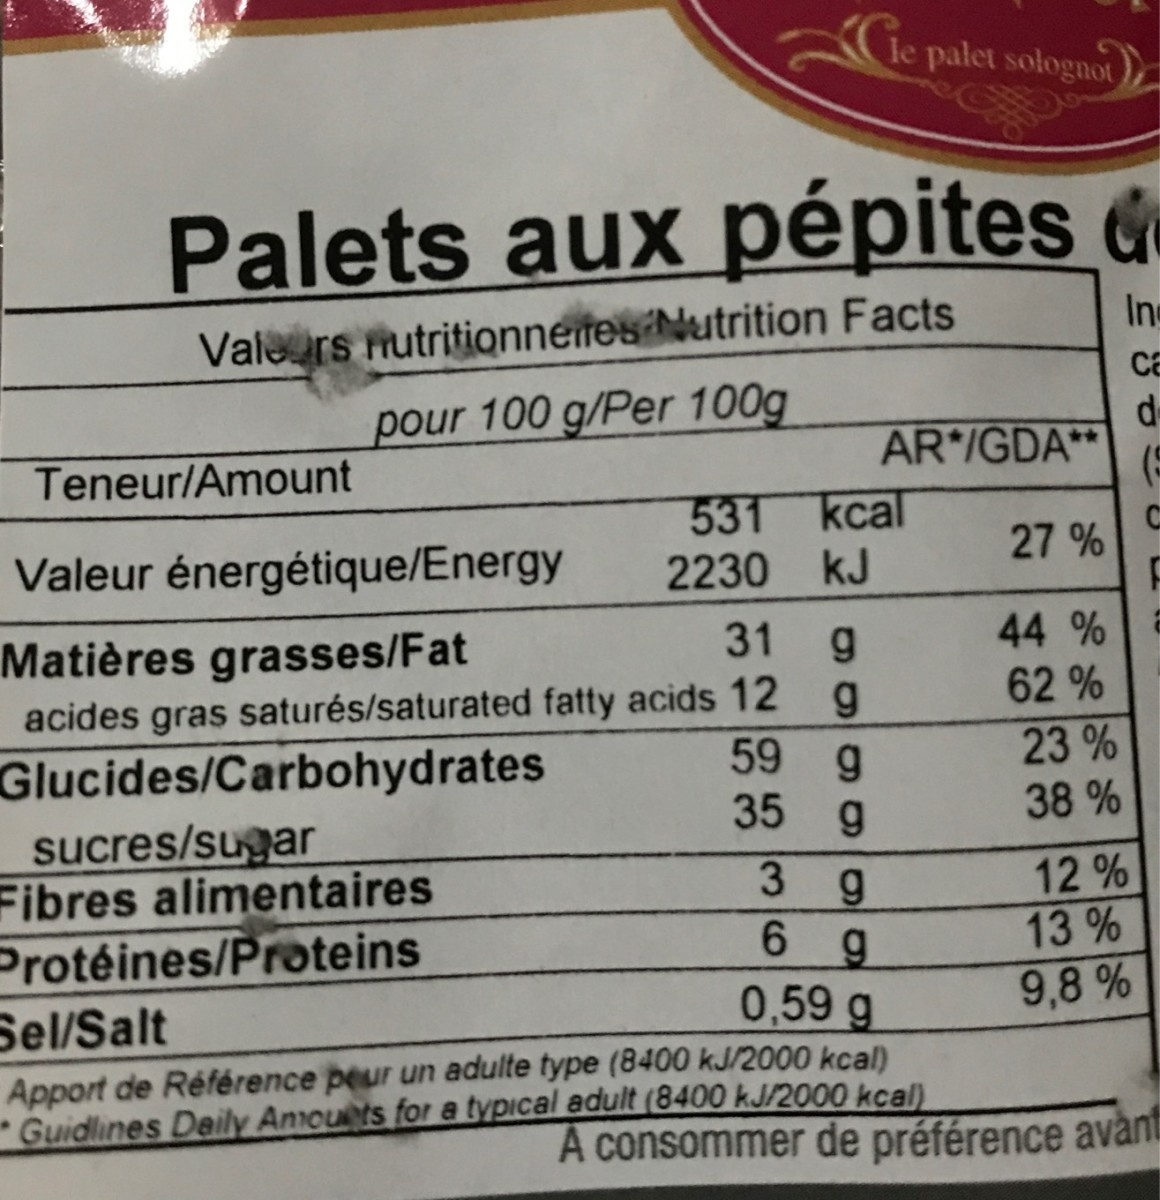column: (1, 508, 621, 1042), (666, 497, 804, 1032), (999, 483, 1133, 1023), (828, 494, 910, 1030)
table: (2, 270, 1142, 1154)
